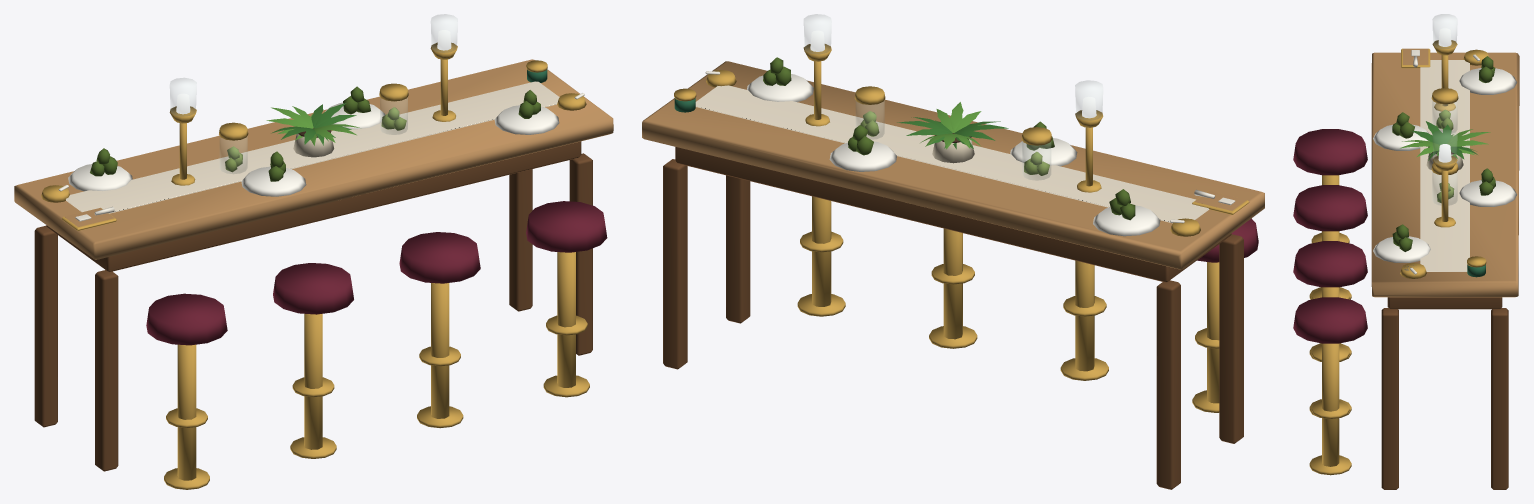
The model's file is rooftop_chefs_table.glb.
3 renders of one model, left to right at view 1: azimuth 30°, elevation 25°; view 2: azimuth 150°, elevation 25°; view 3: azimuth 270°, elevation 25°, orthographic. The views are drawn at different scales.
Parts seen in each view (by area): view 1: TableTop, Runner, Apron, Leg-1-1, Leg-11, StoolSeat0, StoolSeat2, StoolSeat1, StoolSeat3, Leg11, Leg1-1, StoolPole0 (+16 smaller); view 2: TableTop, Runner, Apron, Leg-11, Leg11, Leg-1-1, Leg1-1, StoolPole1, StoolPole2, StoolPole3, StoolPole0, Plate0 (+12 smaller); view 3: TableTop, Runner, Leg1-1, Leg11, StoolSeat1, StoolSeat0, StoolSeat2, StoolSeat3, StoolPole3, Apron, Plate2, Plate0 (+22 smaller).
Boxes of the visible parts, x1,y1,x2,y2 form: TableTop: (14, 59, 613, 259); Runner: (66, 81, 559, 213); Apron: (46, 141, 581, 272); Leg-1-1: (95, 270, 118, 471); Leg-11: (34, 225, 57, 427); StoolSeat0: (146, 293, 227, 345); StoolSeat2: (399, 232, 480, 283); StoolSeat1: (273, 263, 353, 314); StoolSeat3: (526, 201, 607, 252); Leg11: (509, 169, 532, 311); Leg1-1: (569, 153, 592, 355); StoolPole0: (177, 344, 196, 480); TableTop: (642, 61, 1264, 269); Runner: (695, 85, 1209, 223); Apron: (675, 147, 1231, 282); Leg-11: (1156, 280, 1180, 489); Leg11: (663, 159, 687, 369); Leg-1-1: (1219, 234, 1243, 443); Leg1-1: (726, 175, 750, 323); StoolPole1: (1075, 260, 1094, 371); StoolPole2: (943, 228, 962, 339); StoolPole3: (812, 196, 831, 306); StoolPole0: (1207, 262, 1219, 403); Plate0: (1093, 205, 1160, 236); TableTop: (1371, 52, 1519, 297); Runner: (1420, 60, 1469, 271); Leg1-1: (1381, 308, 1398, 489); Leg11: (1491, 308, 1508, 489); StoolSeat1: (1293, 185, 1367, 231); StoolSeat0: (1293, 129, 1367, 175); StoolSeat2: (1293, 241, 1367, 287); StoolSeat3: (1293, 297, 1367, 343); StoolPole3: (1322, 343, 1339, 466); Apron: (1387, 297, 1502, 309); Plate2: (1459, 180, 1516, 206); Plate0: (1459, 68, 1516, 94).
Size of the model in its own units: 1.3 by 0.8007 by 0.5385.
